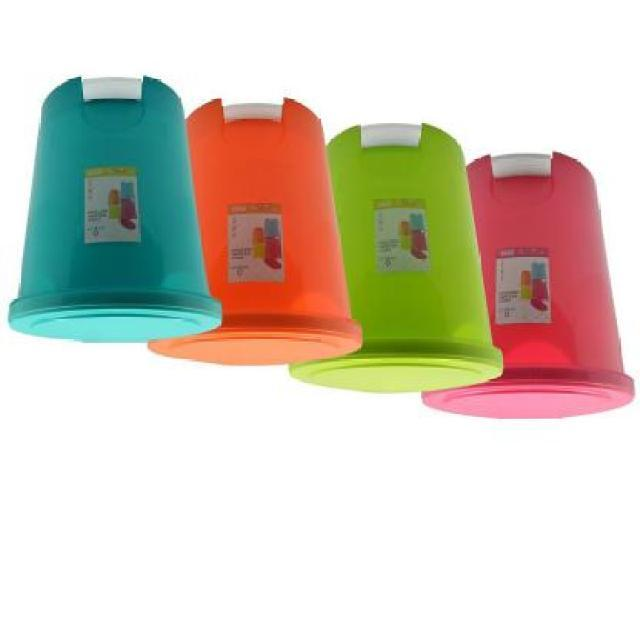garbage container: (284, 110, 513, 392), (9, 62, 220, 347), (181, 77, 367, 377), (462, 150, 640, 422)
